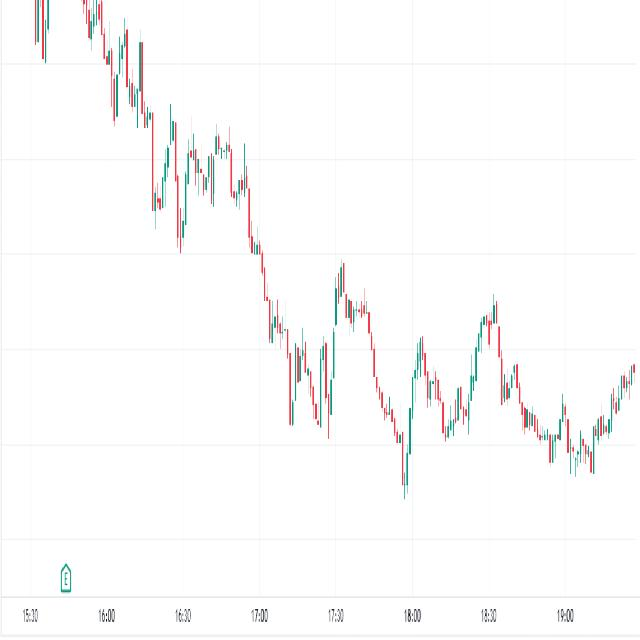Head-Shoulders: (180, 100, 254, 264)
